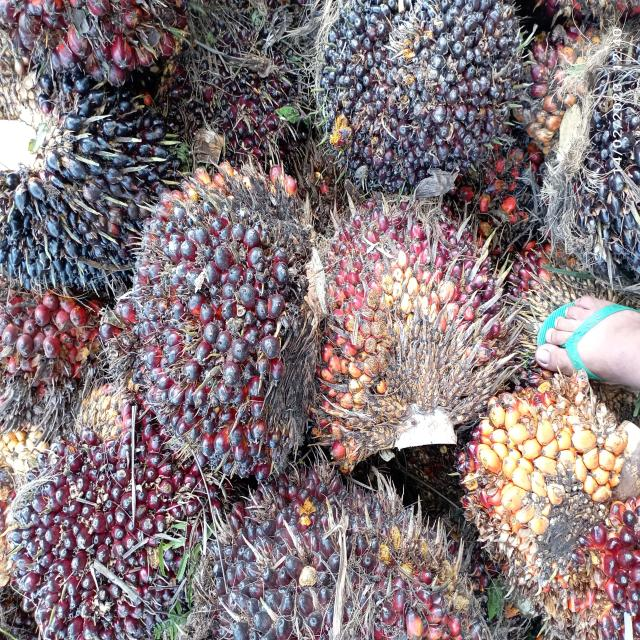fraksi 00: (0, 54, 183, 302), (13, 404, 200, 640), (306, 0, 526, 200)
fraksi 1: (122, 156, 324, 500)
fraksi 3: (302, 182, 514, 460)
